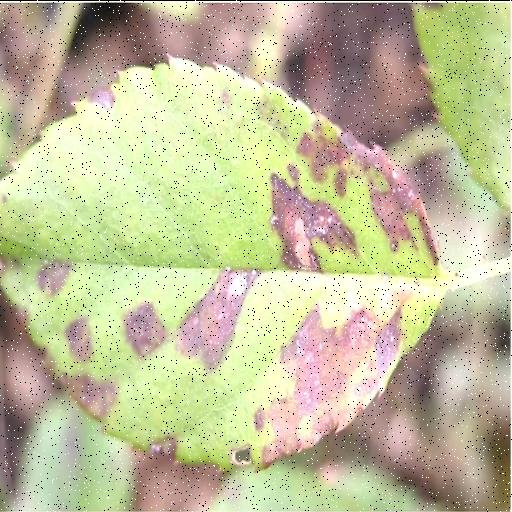downy_mildew: (0, 59, 446, 466)
